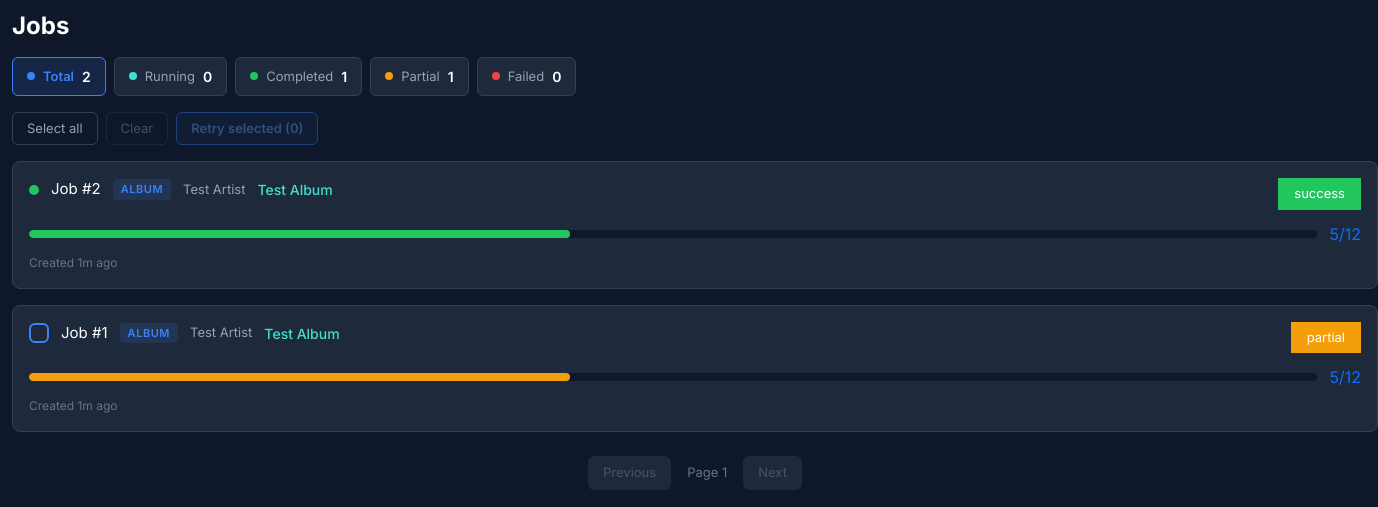
Scenario: JobsPage › counts partial jobs only under Partial, not Completed
The image size is (1378, 507).
Expected: the text "Job #1" is shown, [61, 322, 108, 344]
Expected: the text "Job #2" is shown, [51, 178, 101, 201]
Click the button "Completed 1" at (299, 76), box [235, 57, 362, 96]
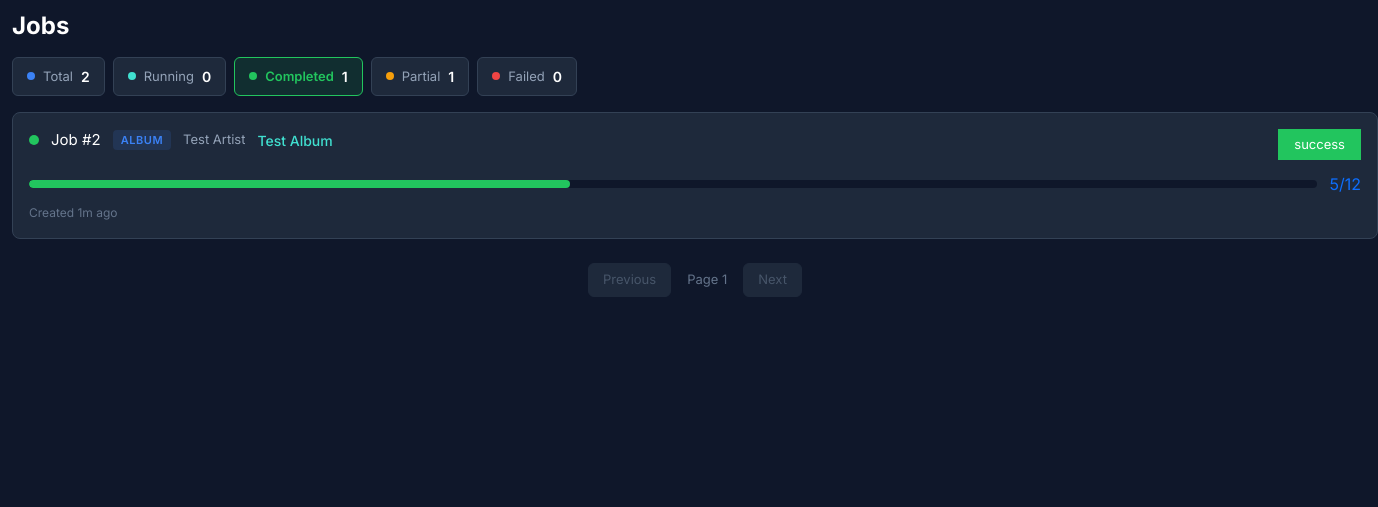
Expected: the text "Job #2" is shown, [51, 129, 101, 151]
Now the link "Job #1" is gone
